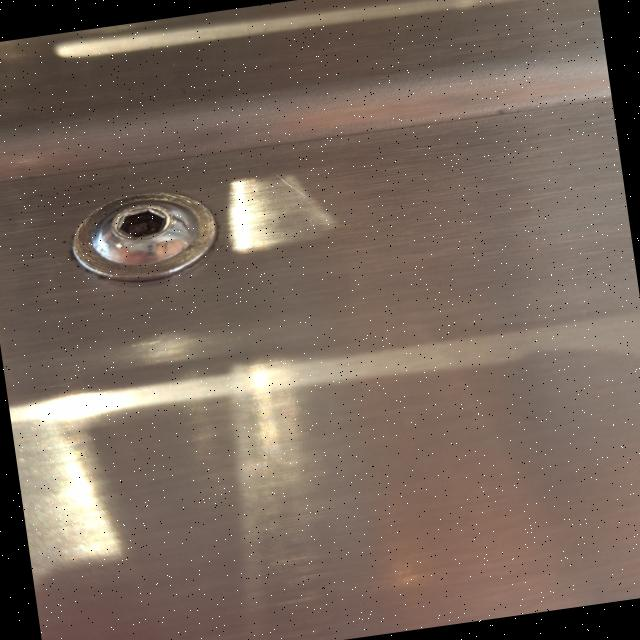Hex Socket Allen: (26, 167, 252, 310)
